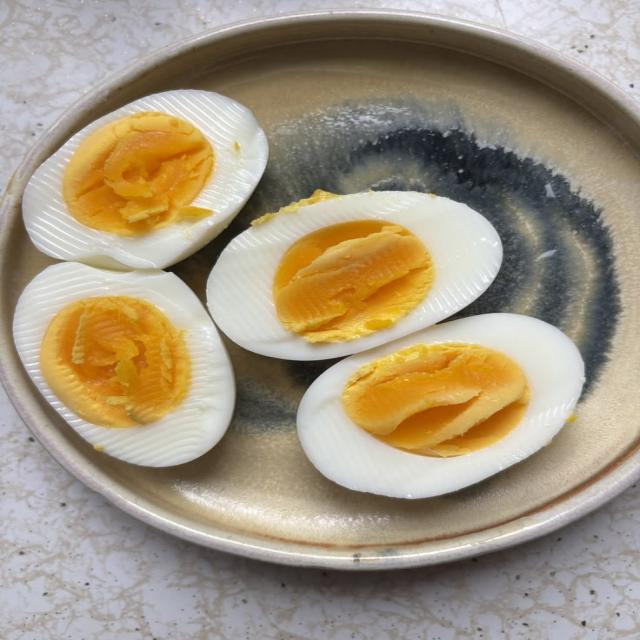egg boiled: (298, 314, 584, 498), (23, 90, 268, 269), (42, 297, 188, 427), (273, 223, 431, 342)
